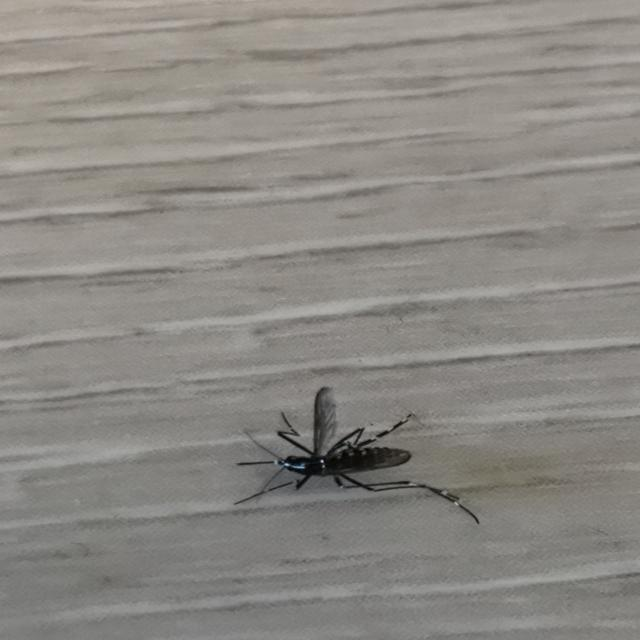albopictus: (230, 376, 488, 530)
